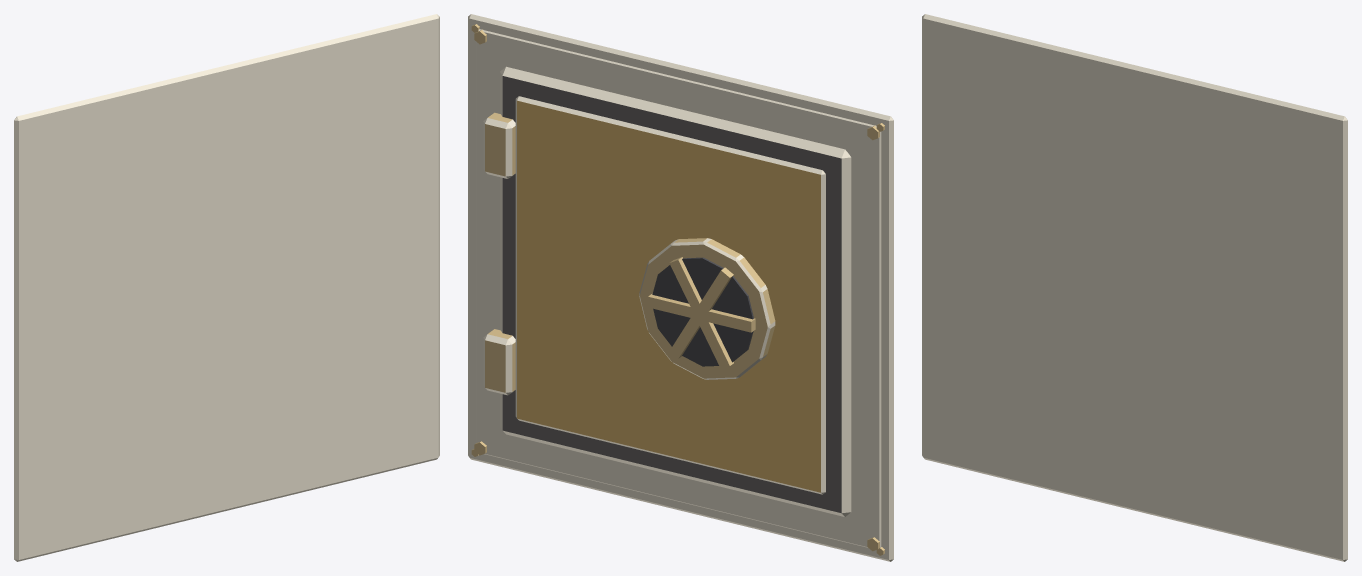
File: Fill_Hatch_2x2.fbx
3 renders of one model, left to right at view 1: azimuth 30°, elevation 25°; view 2: azimuth 150°, elevation 25°; view 3: azimuth 330°, elevation 25°, orthographic.
Visible parts, largest first — view 1: Fill_Hatch_2x2; view 2: Fill_Hatch_2x2; view 3: Fill_Hatch_2x2.
Boxes of the visible parts, x1,y1,x2,y2 form: Fill_Hatch_2x2: (14,14,439,561); Fill_Hatch_2x2: (468,14,893,561); Fill_Hatch_2x2: (922,14,1347,561).
Bounding box in the file's own units: 2.06 × 2.06 × 0.205.
